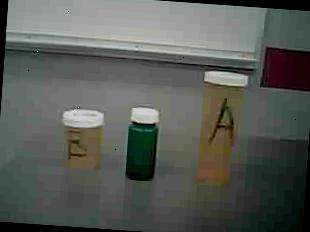Bottle A: (189, 60, 259, 194)
Bottle B: (59, 101, 111, 174)
Bottle C: (117, 100, 180, 196)
